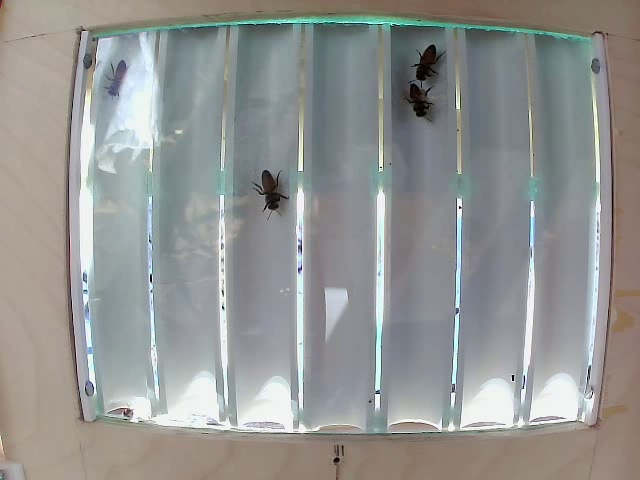bee: (255, 157, 295, 209), (94, 63, 137, 111), (403, 40, 444, 77), (398, 80, 434, 116)
